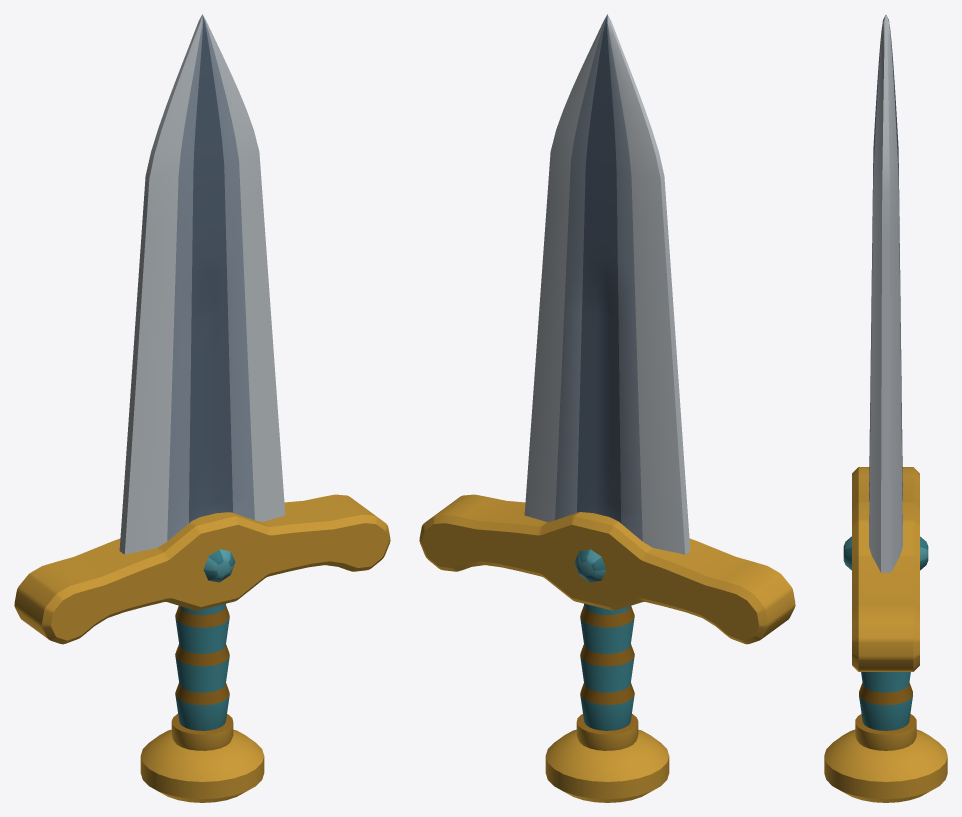
The model's file is Broadsword_08.glb.
3 views of the same model, side by side, from view 1: azimuth 30°, elevation 25°; view 2: azimuth 150°, elevation 25°; view 3: azimuth 270°, elevation 25° (orthographic).
Parts seen in each view (by area): view 1: Broadsword_08; view 2: Broadsword_08; view 3: Broadsword_08.
Part boxes in pixels (bbox=[...]): Broadsword_08: bbox=[14, 14, 390, 802]; Broadsword_08: bbox=[419, 14, 795, 802]; Broadsword_08: bbox=[824, 14, 947, 802].
Bounding box in the file's own units: 2.77 × 5.83 × 0.8502.
